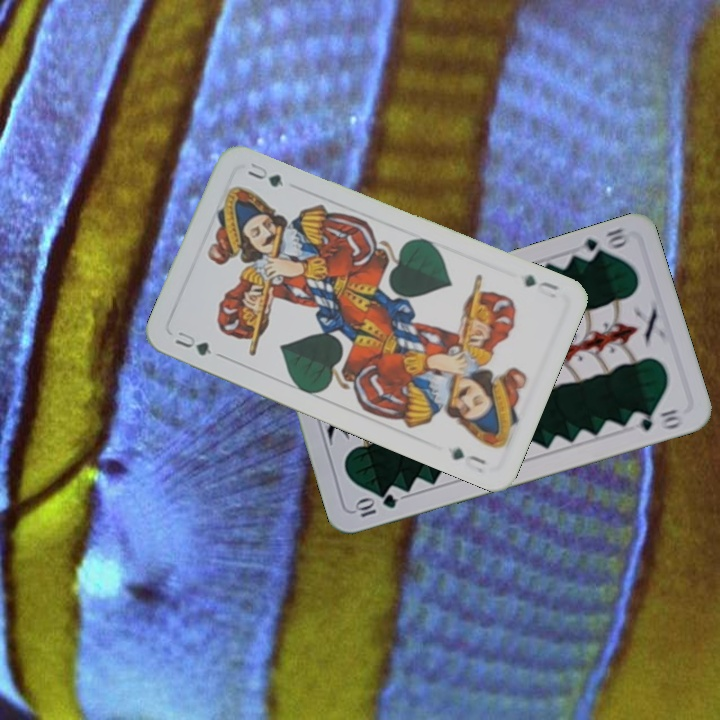G10: (573, 224, 633, 263), (351, 490, 400, 520)
GU: (171, 327, 215, 359), (520, 270, 562, 301)
